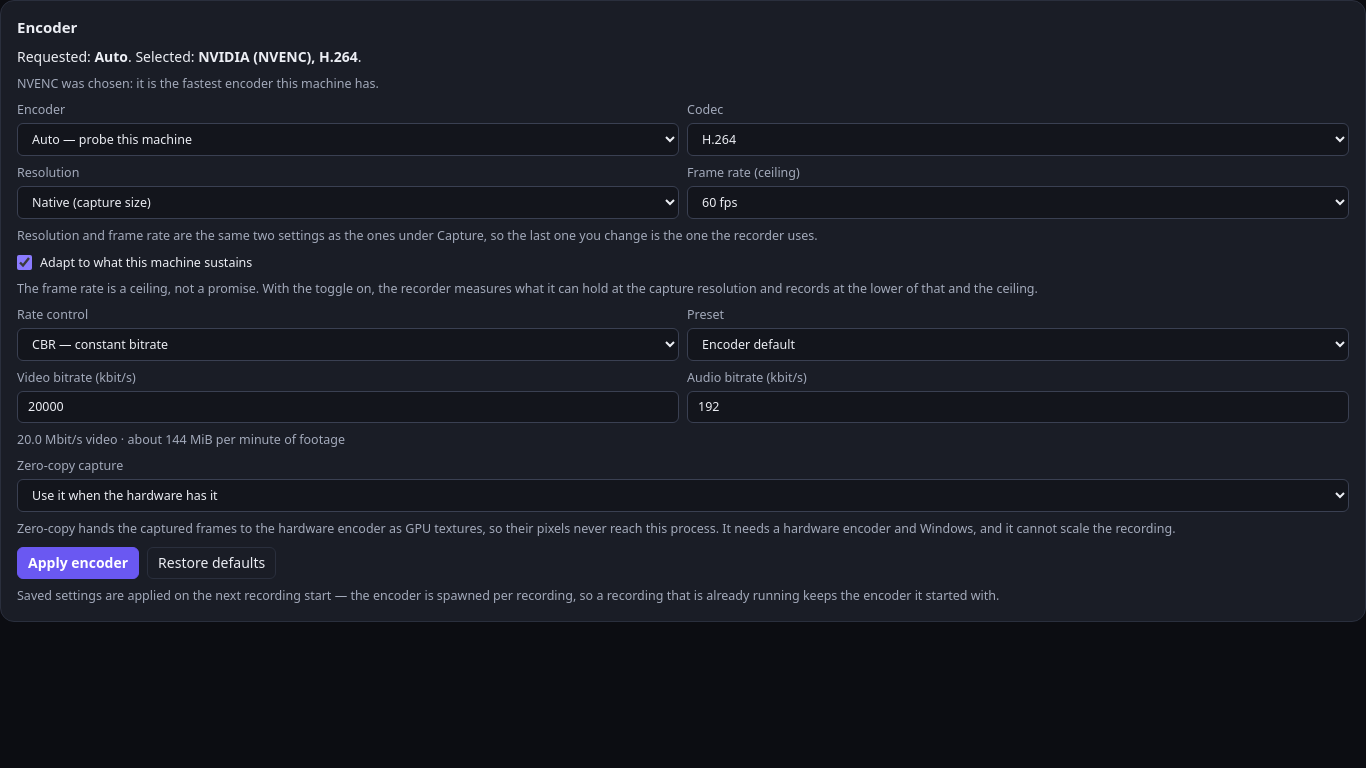
Test: the encoder section › saves the draft and shows the effective values the backend answers with
Replace the text in the number field labelled "Video bitrate (kbit/s)" with "24000" at (348, 407), box [17,391,679,423]
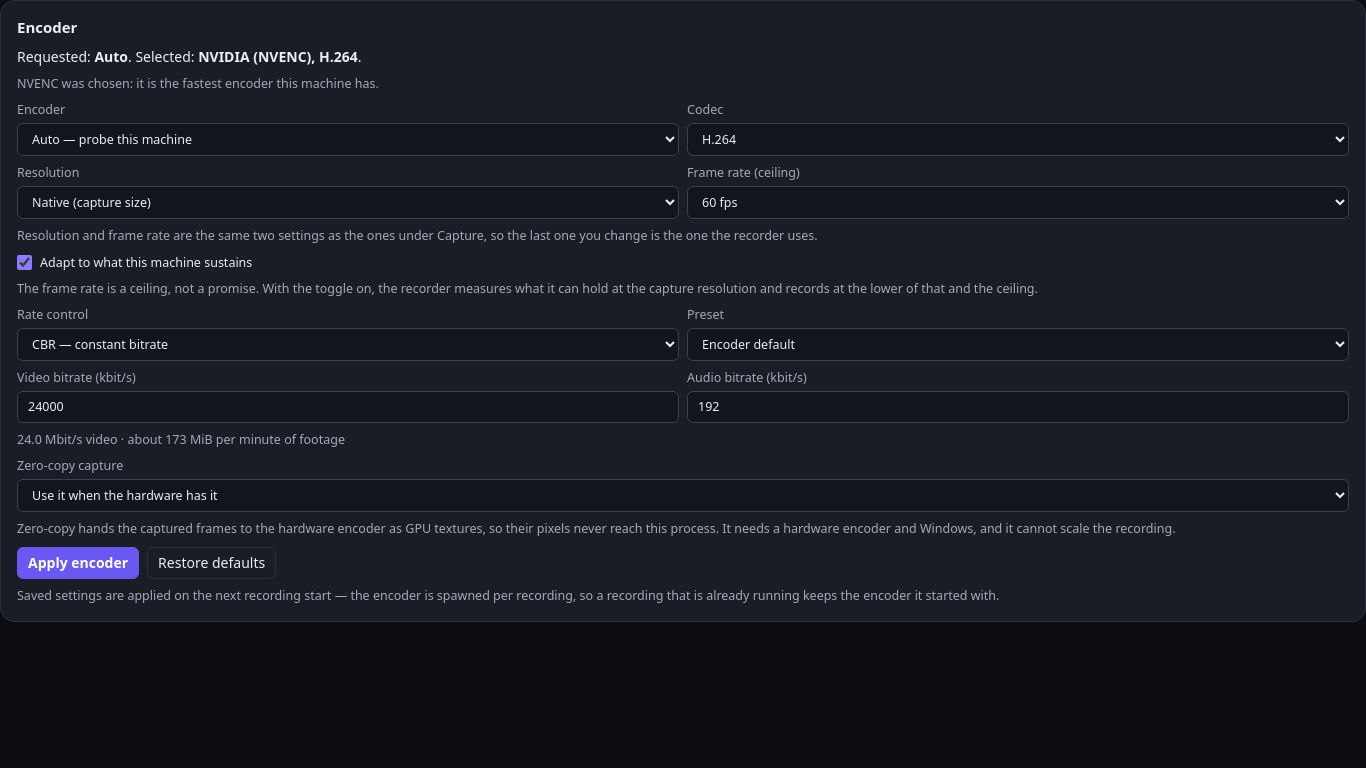
Click the button "Apply encoder" at (78, 563), box [17,546,139,579]
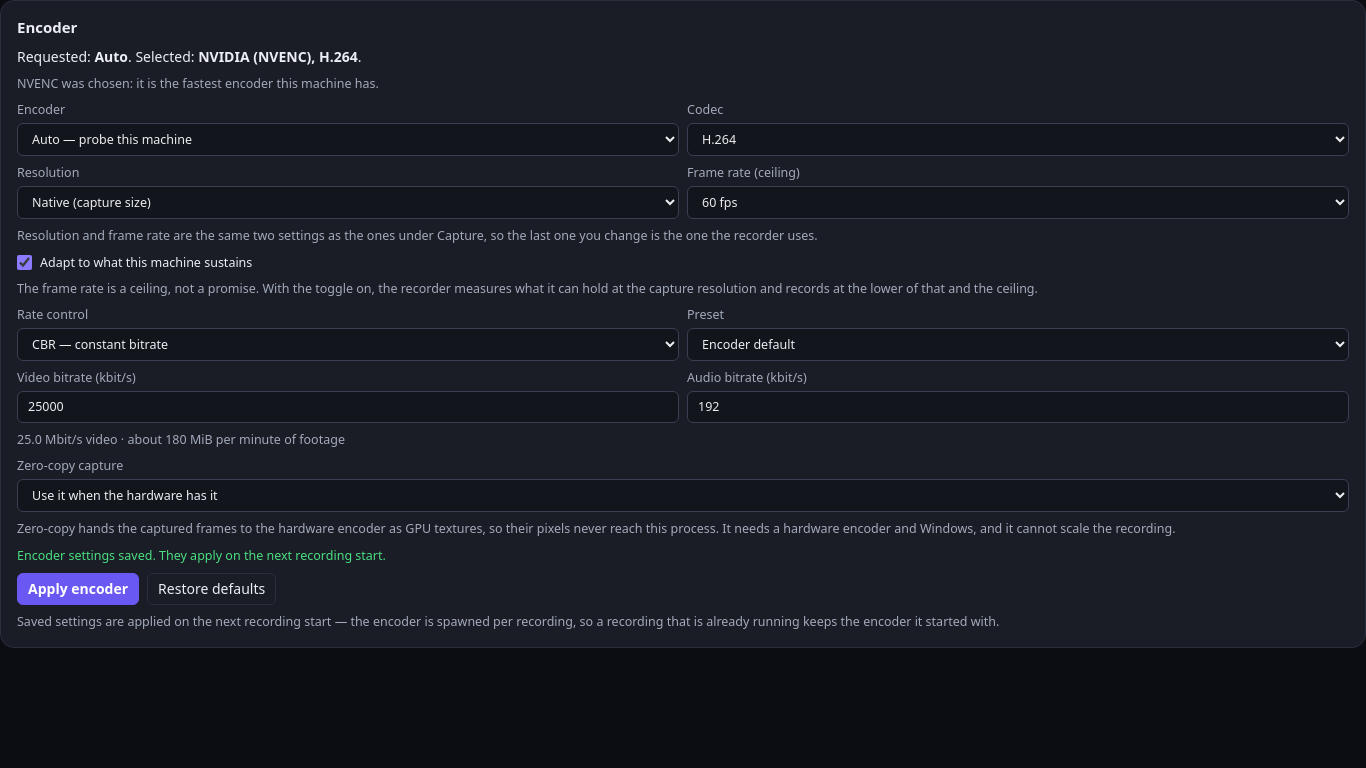
Now the number field labelled "Video bitrate (kbit/s)" holds "25000", box [17,391,679,423]
Now the text "They apply on the next recording start" is shown, box [17,546,386,564]
